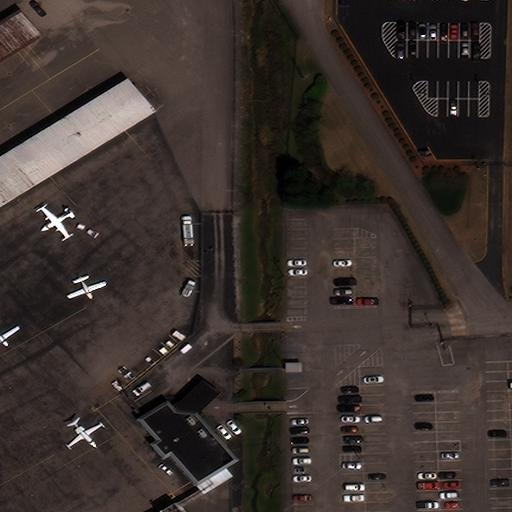Small Civil Transport: (69, 420, 103, 447), (69, 275, 107, 299), (40, 210, 71, 237), (0, 325, 20, 349)
